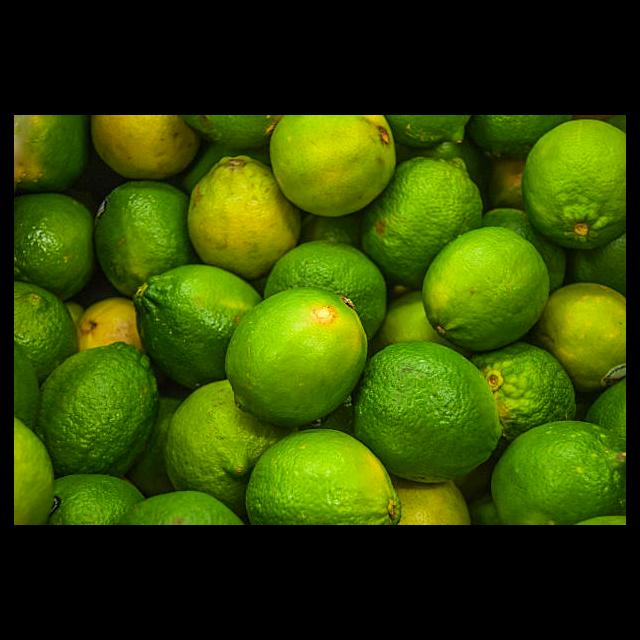lime: (224, 289, 370, 429), (188, 155, 304, 291), (521, 119, 626, 252), (268, 115, 398, 218), (537, 283, 626, 397)
